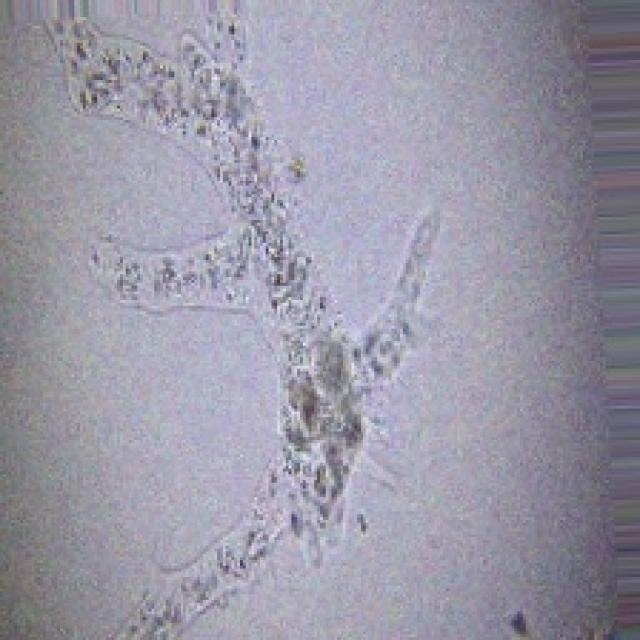Amoeba: (0, 5, 455, 640)
